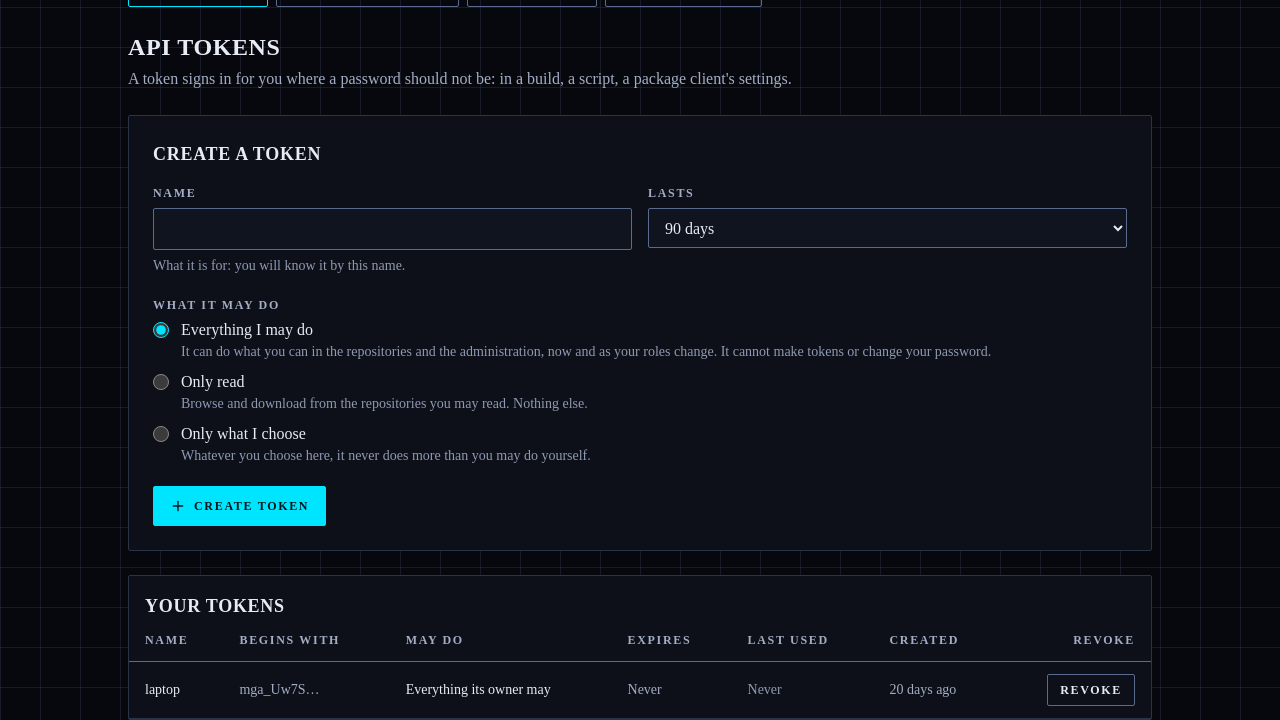
Test case: revoking a token of one's own › asks first, then says it is revoked
The image size is (1280, 720).
(page scrolled)
Click the button with aria-label "Revoke laptop" at (1091,690), box left=1047, top=674, right=1135, bottom=706
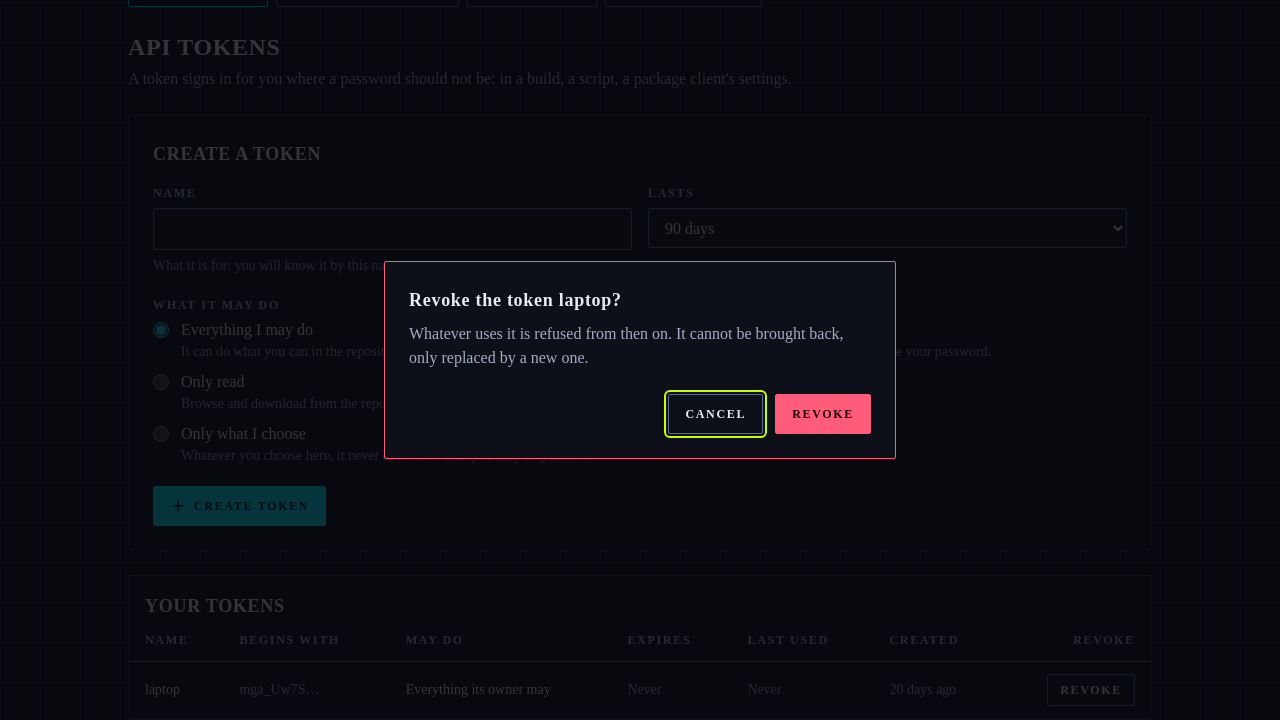
Check: the dialog "Revoke the token laptop?" shows "Whatever uses it is refused from then on.", box left=409, top=325, right=844, bottom=366
Click the button "Revoke" at (823,414), box left=775, top=394, right=871, bottom=434
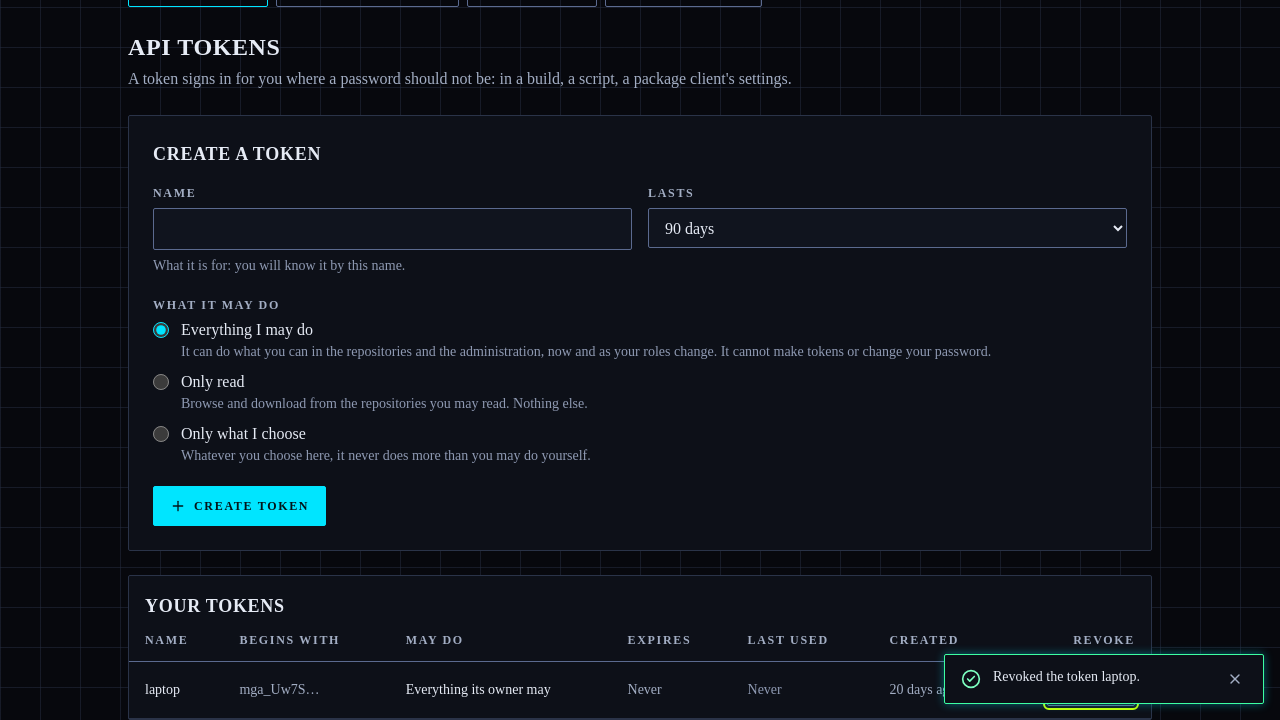
Check: the element named "Notifications" reads "Revoked the token laptop.", box left=993, top=669, right=1140, bottom=684
